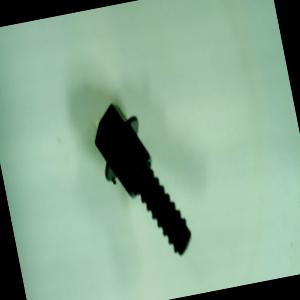parafuso: (86, 90, 197, 272), (87, 92, 196, 270)
